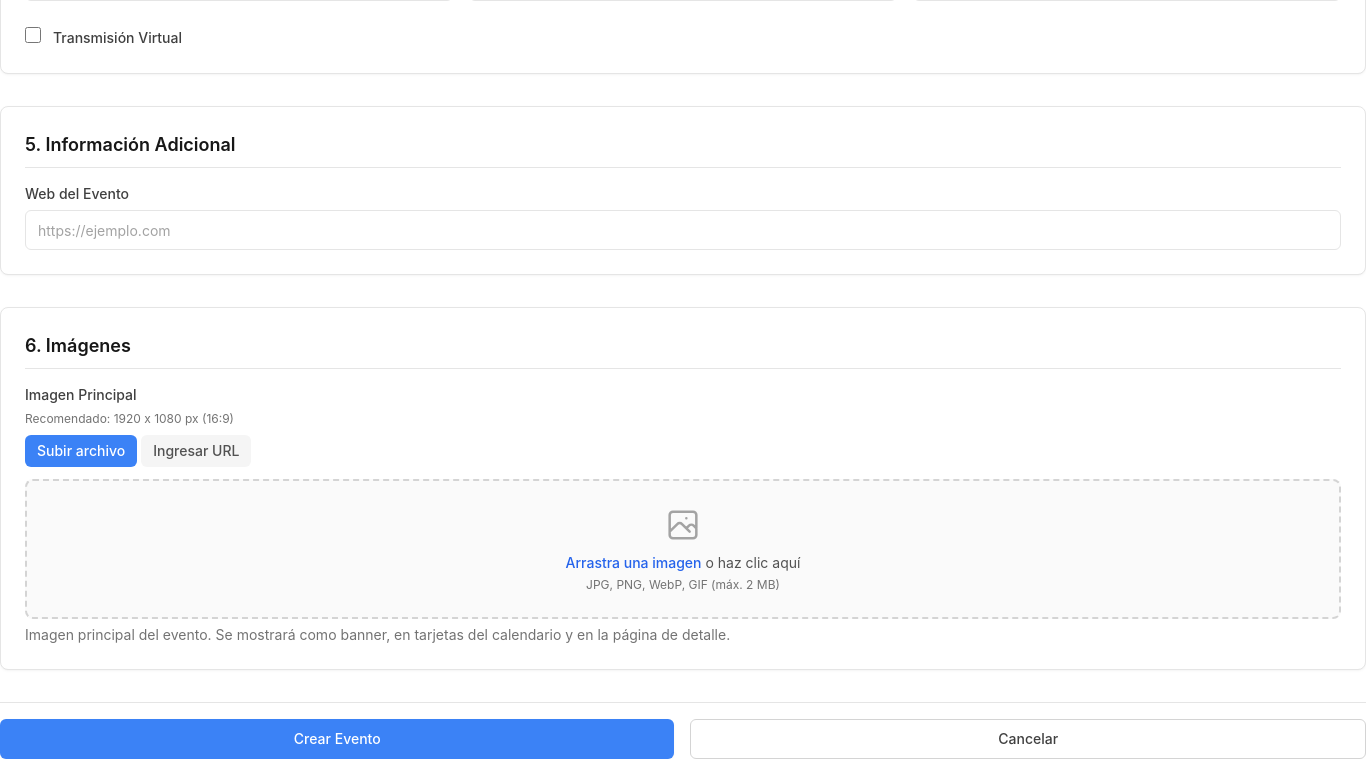
Scenario: OrganizerEventForm › Validation › should show validation errors for required fields when submitted empty
The width and height of the screenshot is (1366, 759).
(page scrolled)
Click the button "Crear Evento" at (337, 739), box [0,719,674,758]
(page scrolled)
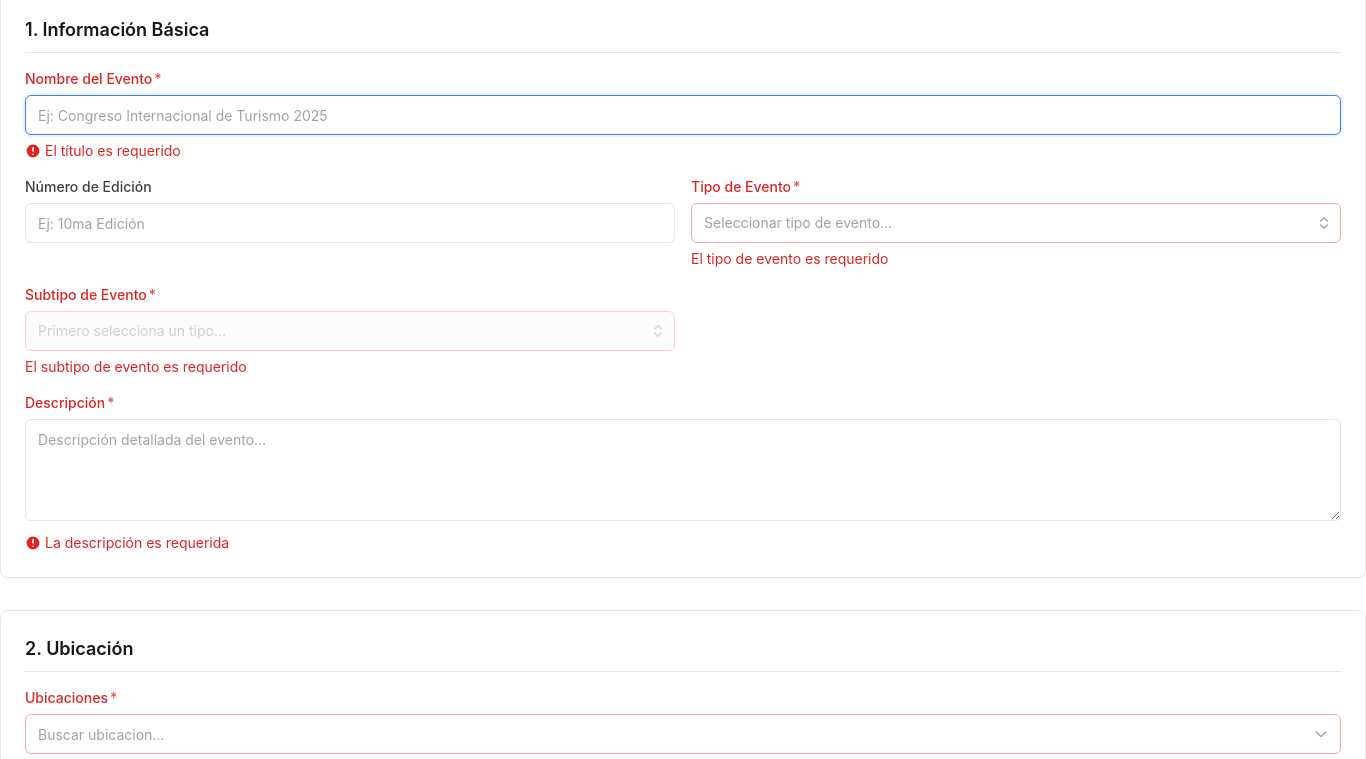
Result: the text "El título es requerido" is shown at [25,142,181,159]
